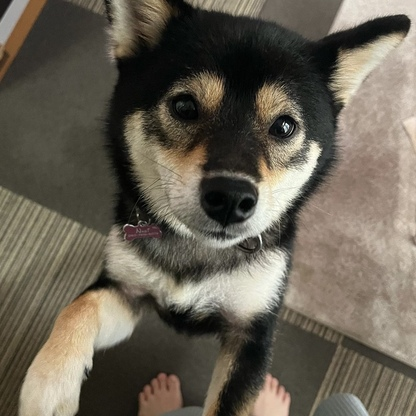shiba: (2, 1, 409, 416)
